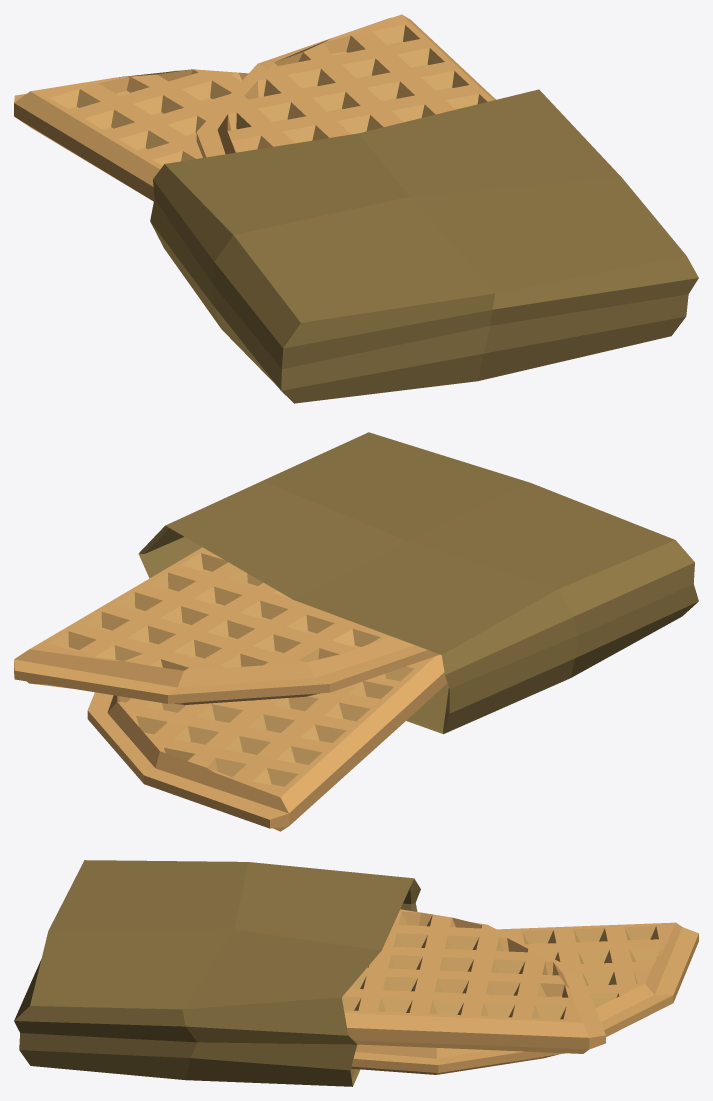
File: ShineMood.fbx
3 renders of one model, top to bottom at view 1: azimuth 30°, elevation 25°; view 2: azimuth 150°, elevation 25°; view 3: azimuth 270°, elevation 25°, orthographic. The views are drawn at different scales.
Parts seen in each view (by area): view 1: Bag, ShineMood; view 2: Bag, ShineMood; view 3: Bag, ShineMood.
Part boxes in pixels (box(x1,y1,x2,y2)): Bag: box(150, 89, 698, 403); ShineMood: box(14, 14, 495, 201); Bag: box(138, 432, 698, 734); ShineMood: box(14, 547, 447, 831); Bag: box(14, 860, 420, 1086); ShineMood: box(342, 909, 698, 1074).
Bounding box in the file's own units: 159 × 42.9 × 252.
